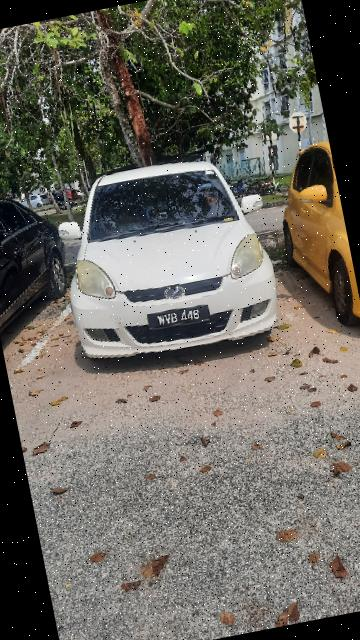License_Plate: (143, 301, 217, 336)
car: (36, 136, 291, 376)
